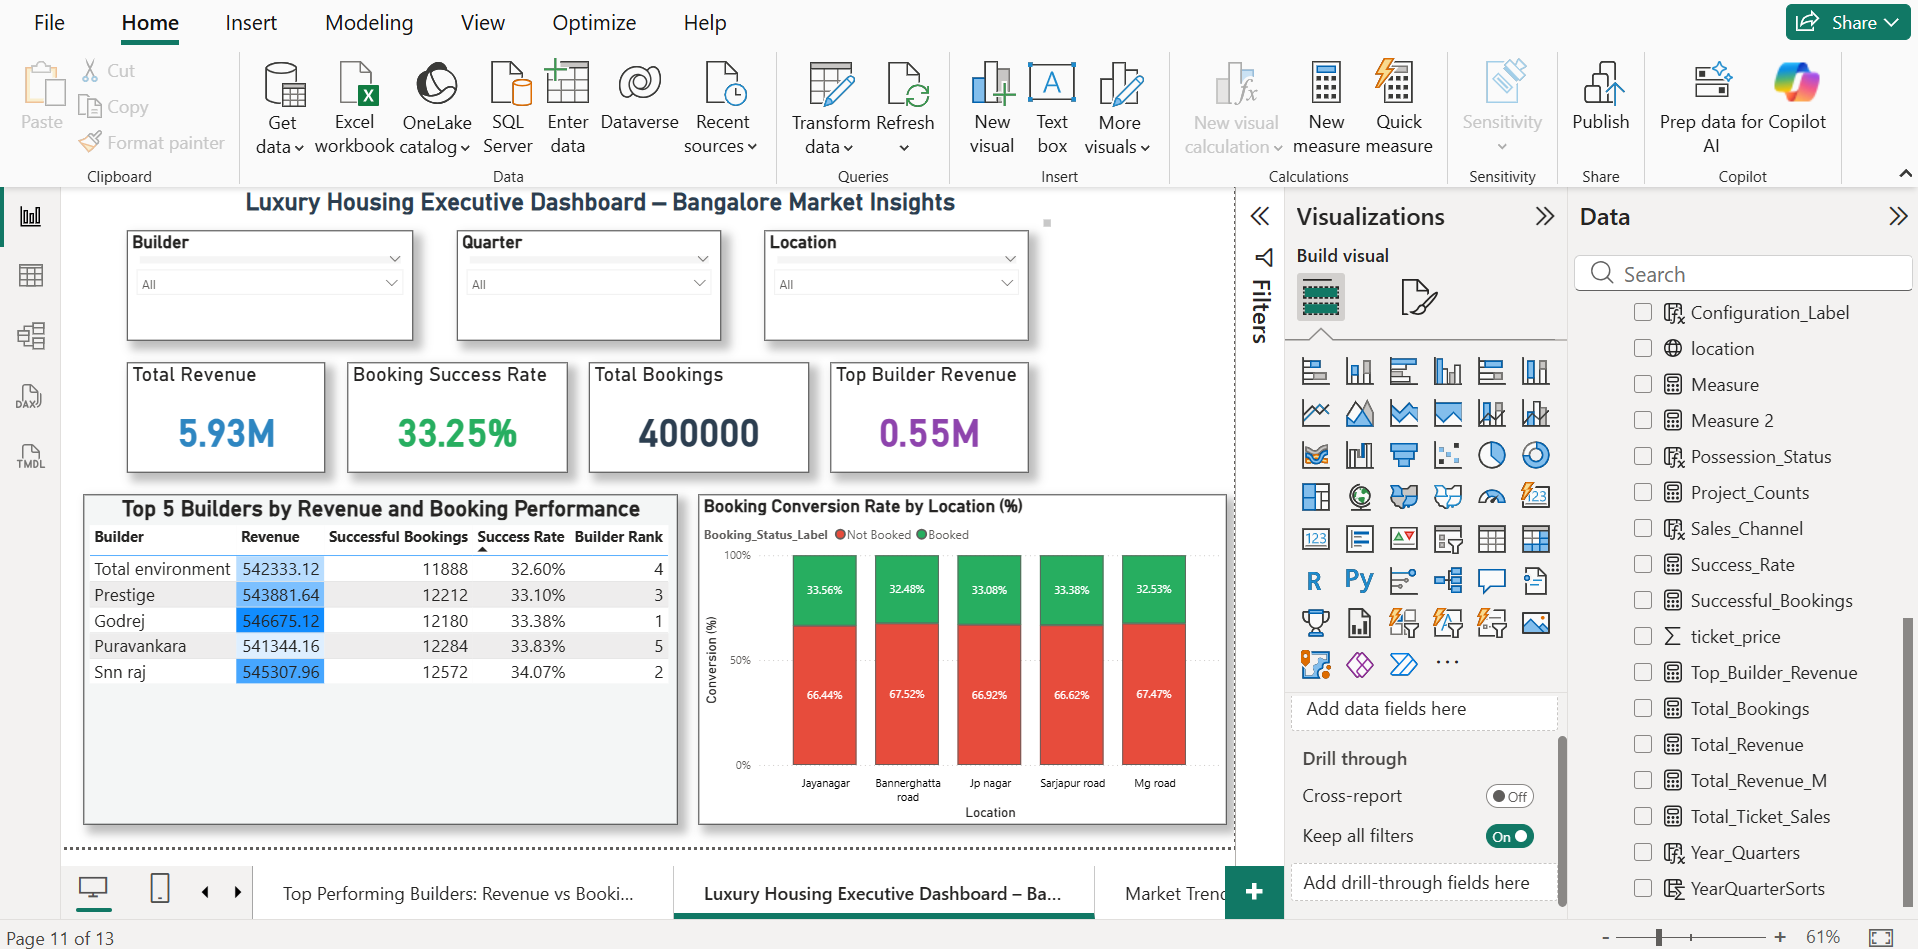

Layout of this report page (visuals, bound fields, positions):
{"tool":"powerbi","page":{"name":"Luxury Housing Executive Dashboard – Bangalore Market Insights","canvas":[1280,720],"ordinal":10},"visuals":[{"type":"tableEx","title":"Top 5 Builders by Revenue and Booking Performance","fields":{"Values":["luxuryhousingsales_db luxury_housing_new.builder_name","luxuryhousingsales_db luxury_housing_new.Total_Revenue","luxuryhousingsales_db luxury_housing_new.Successful_Bookings","luxuryhousingsales_db luxury_housing_new.Booking_Success_Rate","luxuryhousingsales_db luxury_housing_new.Builder Rank"]},"box":[24,336,648,360],"z":0},{"type":"hundredPercentStackedColumnChart","title":"Booking Conversion Rate by Location (%)","fields":{"Category":["luxuryhousingsales_db luxury_housing_new.location"],"Y":["CountNonNull(luxuryhousingsales_db luxury_housing_new.booking_id)"],"Series":["luxuryhousingsales_db luxury_housing_new.Booking_Status_Label"]},"box":[696,336,576,360],"z":1000},{"type":"card","title":"Top Builder Revenue","fields":{"Values":["luxuryhousingsales_db luxury_housing_new.Top_Builder_Revenue"]},"box":[840,192,216,120],"z":2000},{"type":"card","title":"Total Bookings","fields":{"Values":["luxuryhousingsales_db luxury_housing_new.Total_Bookings"]},"box":[576,192,240,120],"z":3000},{"type":"card","title":"Booking Success Rate","fields":{"Values":["luxuryhousingsales_db luxury_housing_new.Booking_Success_Rate"]},"box":[312,192,240,120],"z":4000},{"type":"card","title":"Total Revenue","fields":{"Values":["luxuryhousingsales_db luxury_housing_new.Total_Revenue"]},"box":[72,192,216,120],"z":5000},{"type":"textbox","title":"Luxury Housing Executive Dashboard – Bangalore Market Insights","box":[196,0,888,48],"z":6000},{"type":"slicer","title":"Builder","fields":{"Values":["luxuryhousingsales_db luxury_housing_new.builder_name"]},"box":[72,48,312,120],"z":7000},{"type":"slicer","title":"Quarter","fields":{"Values":["luxuryhousingsales_db luxury_housing_new.Year_Quarters"]},"box":[432,48,288,120],"z":8000},{"type":"slicer","title":"Location","fields":{"Values":["luxuryhousingsales_db luxury_housing_new.location"]},"box":[768,48,288,120],"z":9000}]}

Visuals, with their boxes on the page's 1280x720 design canvas (x1, y1, x2, y2). These are canvas units, not pixel positions in the 1918x949 screenshot, which may show the page scaled, cropped or inside an application window:
"Top 5 Builders by Revenue and Booking Performance" tableEx: [x1=24, y1=336, x2=672, y2=696]
"Booking Conversion Rate by Location (%)" hundredPercentStackedColumnChart: [x1=696, y1=336, x2=1272, y2=696]
"Top Builder Revenue" card: [x1=840, y1=192, x2=1056, y2=312]
"Total Bookings" card: [x1=576, y1=192, x2=816, y2=312]
"Booking Success Rate" card: [x1=312, y1=192, x2=552, y2=312]
"Total Revenue" card: [x1=72, y1=192, x2=288, y2=312]
"Luxury Housing Executive Dashboard – Bangalore Market Insights" textbox: [x1=196, y1=0, x2=1084, y2=48]
"Builder" slicer: [x1=72, y1=48, x2=384, y2=168]
"Quarter" slicer: [x1=432, y1=48, x2=720, y2=168]
"Location" slicer: [x1=768, y1=48, x2=1056, y2=168]
